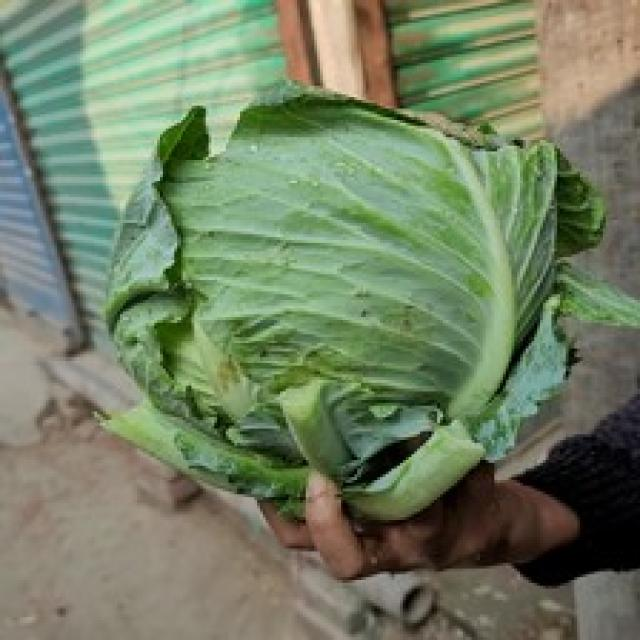Cabbage: (92, 74, 637, 526)
